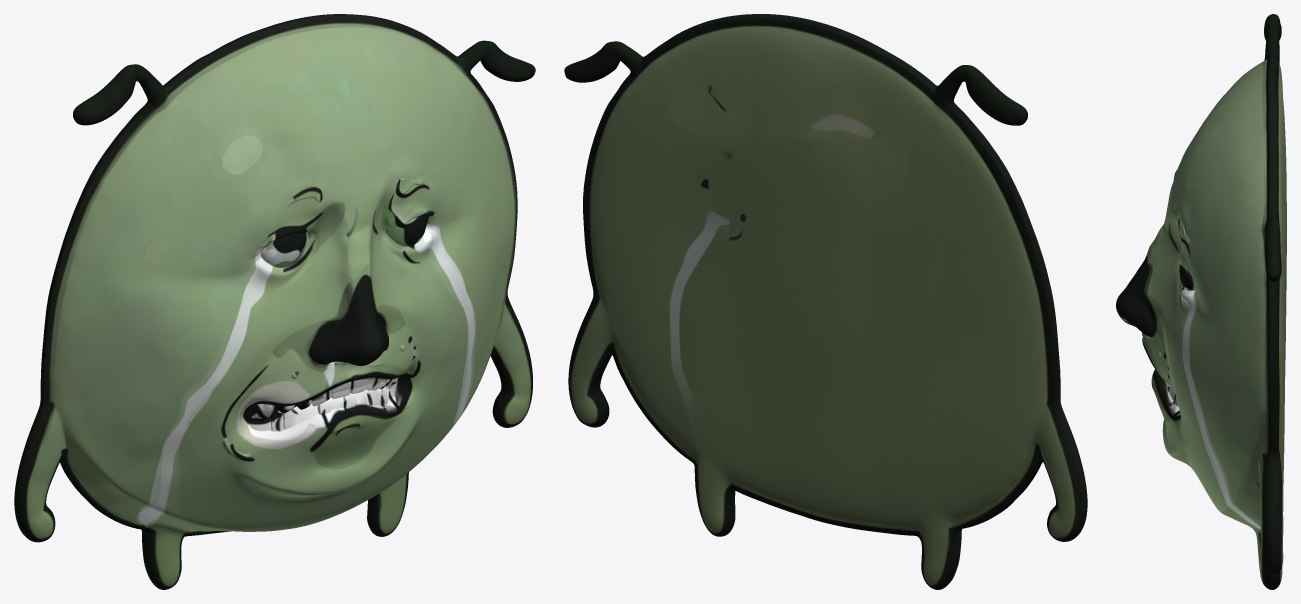
The picture shows the model from 3 angles, left to right: view 1: azimuth 30°, elevation 25°; view 2: azimuth 150°, elevation 25°; view 3: azimuth 270°, elevation 25°; orthographic projection. The views are drawn at different scales.
Visible parts, largest first — view 1: vizcom_node_0; view 2: vizcom_node_0; view 3: vizcom_node_0.
Boxes of the visible parts, x1=… form: vizcom_node_0: x1=14, y1=14, x2=535, y2=589; vizcom_node_0: x1=564, y1=14, x2=1087, y2=589; vizcom_node_0: x1=1116, y1=14, x2=1286, y2=589.
Bounding box in the file's own units: 1.75 × 1.72 × 0.5666.
1 material, 1 textured.
